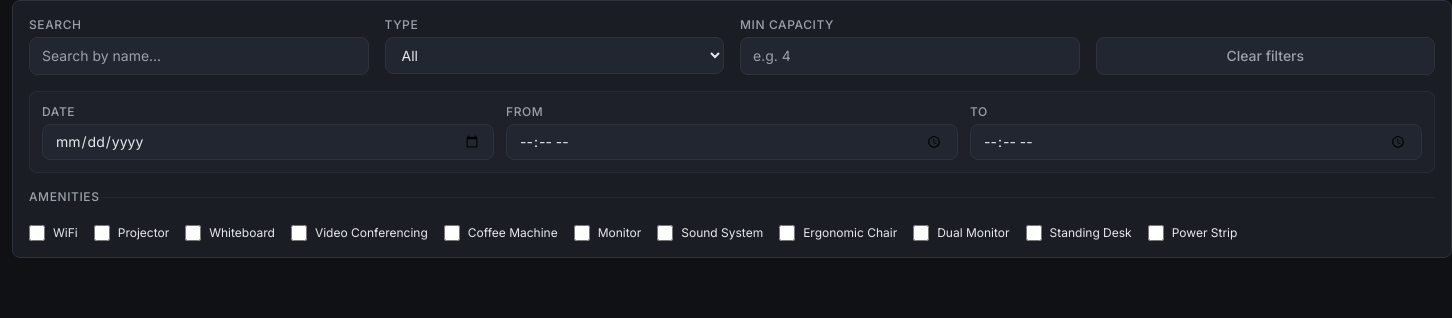
FilterBar Component › shows an inline error message when only some availability inputs are filled
Fill date only
Type "2026-10-05" into the date field labelled "Date".
click(268, 142); type("2026-10-05")  # box [42,124,494,160]
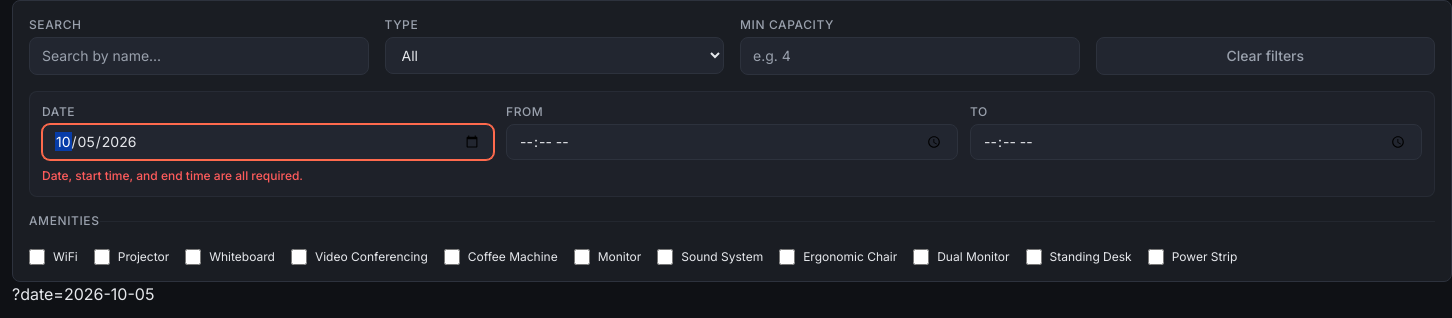
Now the message reads "Date, start time, and end time are all required.", box [42,168,303,183]
Fill From time only
Type "10:00" into the time field labelled "From".
click(732, 142); type("10:00")  # box [506,124,958,160]
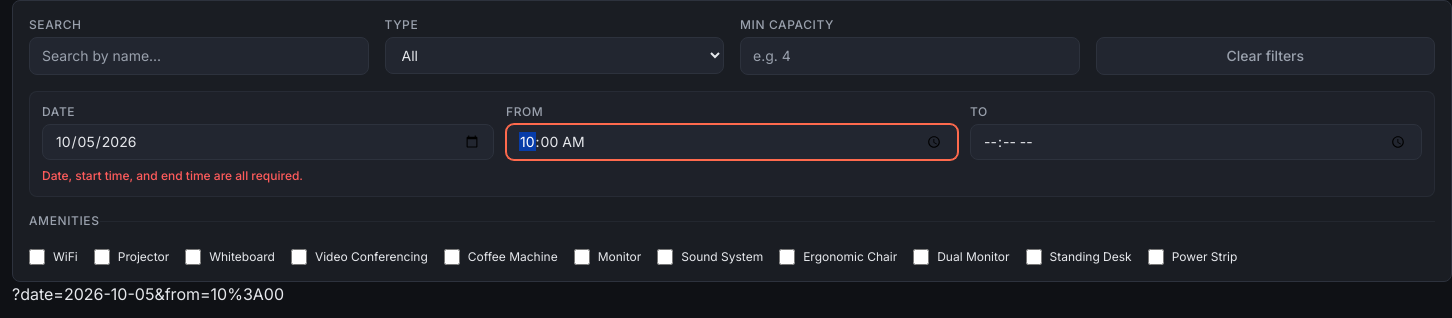
Now the message reads "Date, start time, and end time are all required.", box [42,168,303,183]
Type "11:00" into the time field labelled "To".
click(1196, 142); type("11:00")  # box [970,124,1422,160]
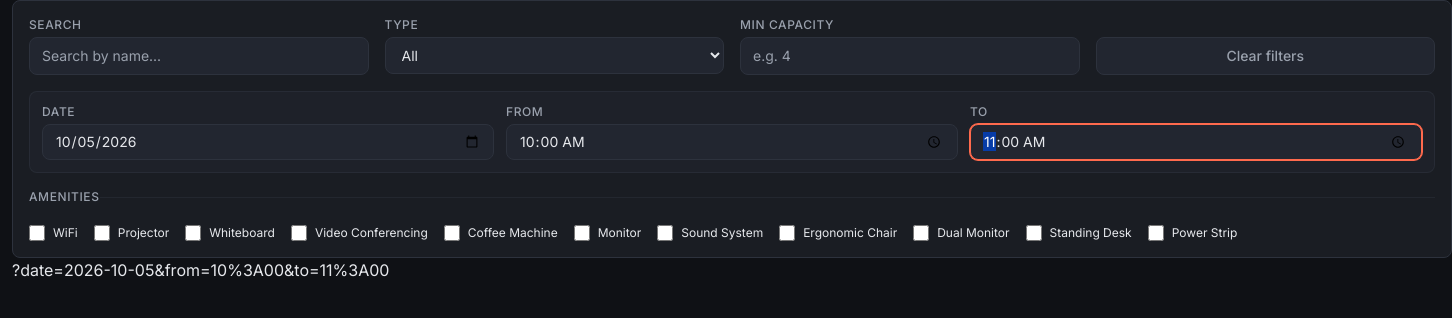
Now the message "Date, start time, and end time are all required." is gone
